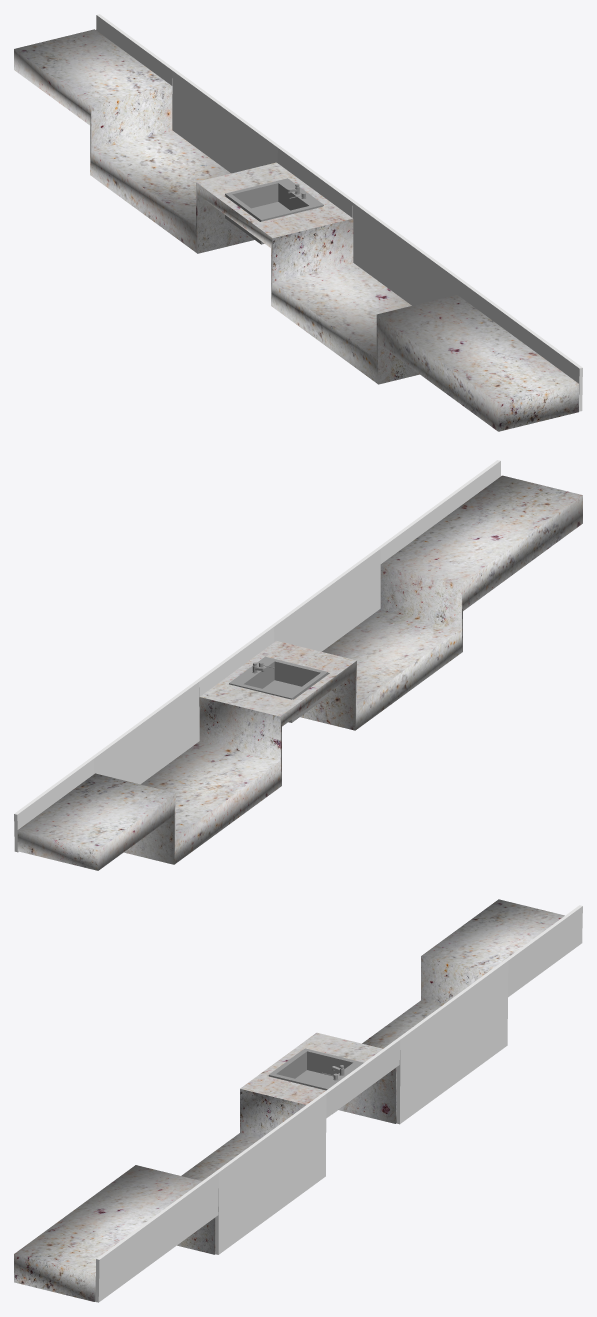
Rendered from BALCAO (CRTL J).fbx.
3 renders of one model, top to bottom at view 1: azimuth 30°, elevation 25°; view 2: azimuth 150°, elevation 25°; view 3: azimuth 330°, elevation 25°, orthographic.
Parts seen in each view (by area): view 1: Balcao; view 2: Balcao; view 3: Balcao.
Boxes of the visible parts, left/top/right/bottom form: Balcao: left=14, top=14, right=582, bottom=431; Balcao: left=14, top=460, right=582, bottom=870; Balcao: left=14, top=899, right=582, bottom=1302.
Size of the model in its own units: 0.5695 by 0.5448 by 5.62.
Materials: 3 (1 with a texture image).
